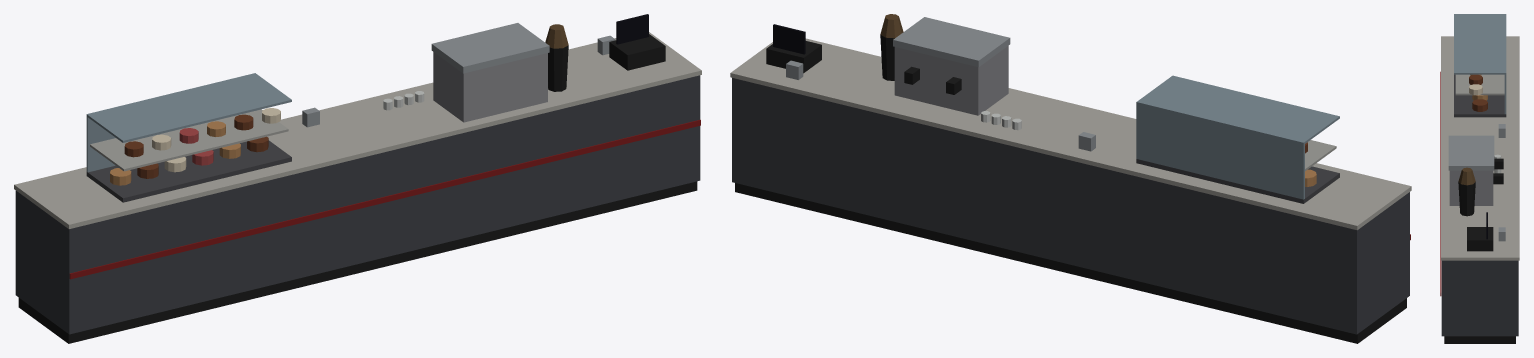
Rendered from cafe_counter.glb.
3 views of the same model, side by side, from view 1: azimuth 30°, elevation 25°; view 2: azimuth 150°, elevation 25°; view 3: azimuth 270°, elevation 25° (orthographic). The views are drawn at different scales.
Parts seen in each view (by area): view 1: cafe_counter; view 2: cafe_counter; view 3: cafe_counter.
Part boxes in pixels (box(x1,y1,x2,y2)): cafe_counter: box(14, 14, 701, 343); cafe_counter: box(730, 14, 1411, 343); cafe_counter: box(1440, 14, 1519, 343).
Bounding box in the file's own units: 6 × 1.66 × 0.905.
